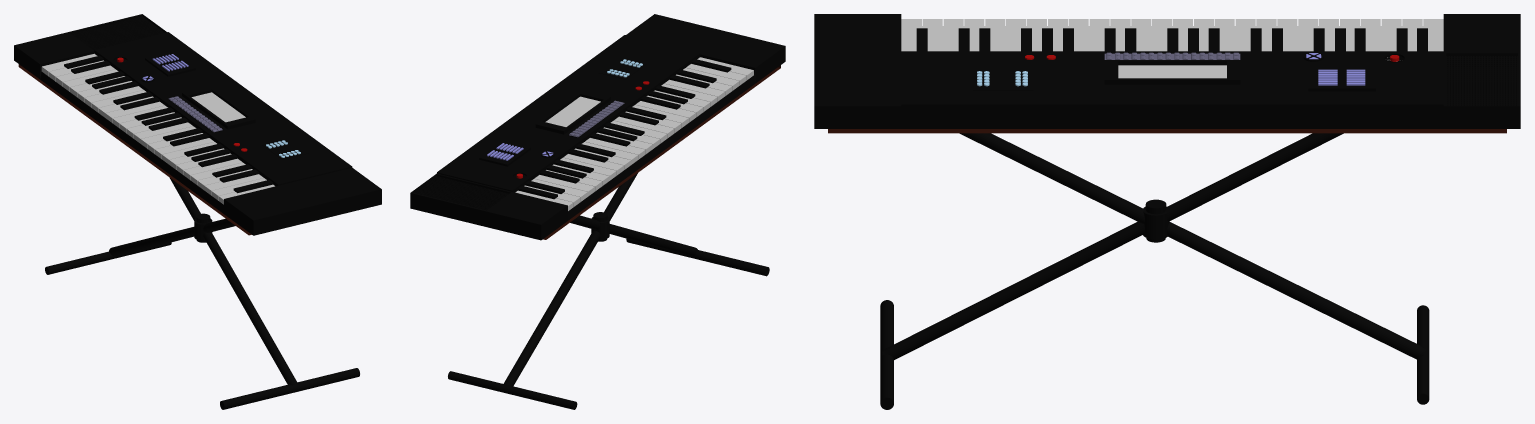
File: PianoNoSeat.obj
3 views of the same model, side by side, from view 1: azimuth 30°, elevation 25°; view 2: azimuth 150°, elevation 25°; view 3: azimuth 270°, elevation 25° (orthographic). The views are drawn at different scales.
Parts seen in each view (by area): view 1: Plane.121, Plane.082, Plane.083, Circle.049, Circle.051, Plane.131, Circle.050, Circle.052, Plane.128, Plane.127, Plane.129, Plane.135 (+1 smaller); view 2: Plane.121, Plane.082, Plane.083, Circle.050, Circle.049, Plane.131, Circle.051, Circle.052, Plane.128, Plane.127, Plane.129, Plane.135 (+2 smaller); view 3: Plane.082, Plane.121, Plane.083, Circle.050, Circle.051, Plane.131, Circle.052, Circle.049, Plane.128, Plane.127, Cylinder.018_Cylinder.014, Plane.135 (+2 smaller).
Part boxes in pixels (box(x1,y1,x2,y2)): Plane.121: box(94, 32, 352, 185); Plane.082: box(14, 14, 381, 235); Plane.083: box(41, 53, 274, 204); Circle.049: box(45, 59, 359, 409); Circle.051: box(169, 177, 298, 385); Plane.131: box(72, 16, 164, 49); Circle.050: box(109, 218, 235, 256); Circle.052: box(18, 64, 251, 235); Plane.128: box(191, 92, 245, 122); Plane.127: box(168, 96, 222, 132); Plane.129: box(145, 51, 195, 74); Plane.135: box(262, 138, 308, 159); Plane.121: box(437, 35, 700, 191); Plane.082: box(410, 14, 785, 240); Plane.083: box(515, 57, 753, 210); Circle.050: box(503, 173, 637, 386); Circle.049: box(448, 78, 769, 409); Plane.131: box(414, 176, 508, 210); Circle.051: box(570, 215, 697, 256); Circle.052: box(543, 65, 780, 239); Plane.128: box(545, 96, 600, 126); Plane.127: box(569, 100, 624, 137); Plane.129: box(479, 140, 530, 164); Plane.135: box(599, 57, 645, 79); Plane.082: box(814, 14, 1520, 128); Plane.121: box(901, 51, 1443, 106); Plane.083: box(901, 19, 1443, 61); Circle.050: box(959, 133, 1426, 359); Circle.051: box(882, 133, 1343, 359); Plane.131: box(1446, 56, 1517, 105); Circle.052: box(828, 129, 1506, 133); Circle.049: box(880, 300, 1429, 409); Plane.128: box(1118, 65, 1226, 78); Plane.127: box(1104, 52, 1240, 59); Cylinder.018_Cylinder.014: box(1143, 199, 1169, 242); Plane.135: box(973, 71, 1033, 90).
Size of the model in its own units: 0.5502 by 0.8139 by 1.68.
